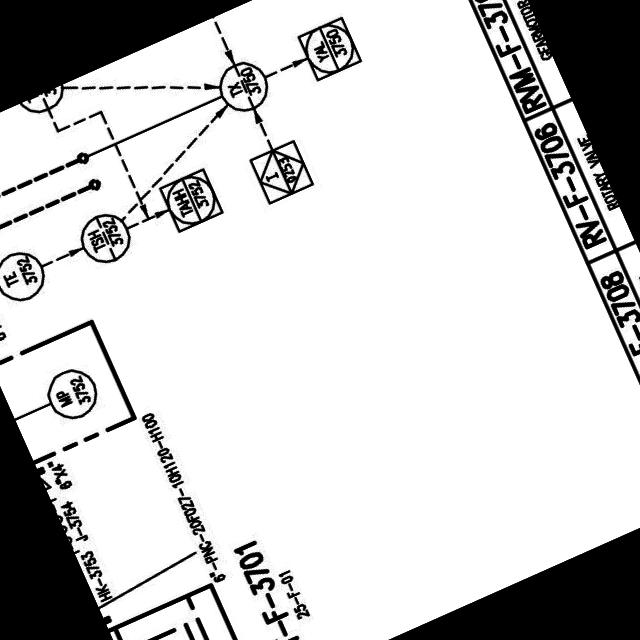FT1: (105, 578, 248, 640)
